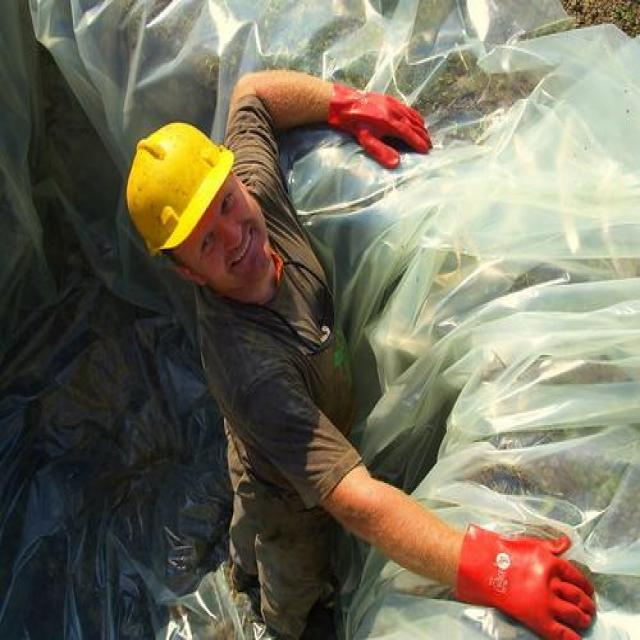Safety-Helmet: (119, 114, 241, 261)
